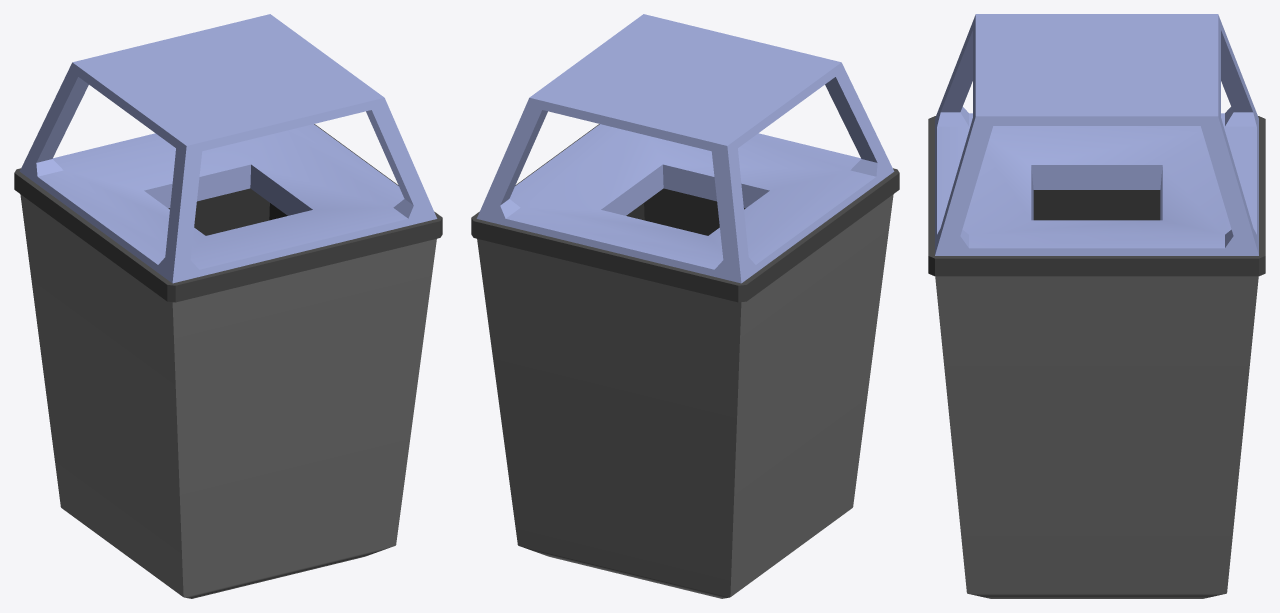
The model's file is Bin.fbx.
The picture shows the model from 3 angles, left to right: view 1: azimuth 30°, elevation 25°; view 2: azimuth 150°, elevation 25°; view 3: azimuth 270°, elevation 25°; orthographic projection. The views are drawn at different scales.
Visible parts, largest first — view 1: Bin; view 2: Bin; view 3: Bin.
Boxes of the visible parts, <box> form: Bin: <box>14,14,442,598</box>; Bin: <box>471,14,899,598</box>; Bin: <box>928,14,1265,598</box>.
Size of the model in its own units: 76.11 by 122 by 76.11.
